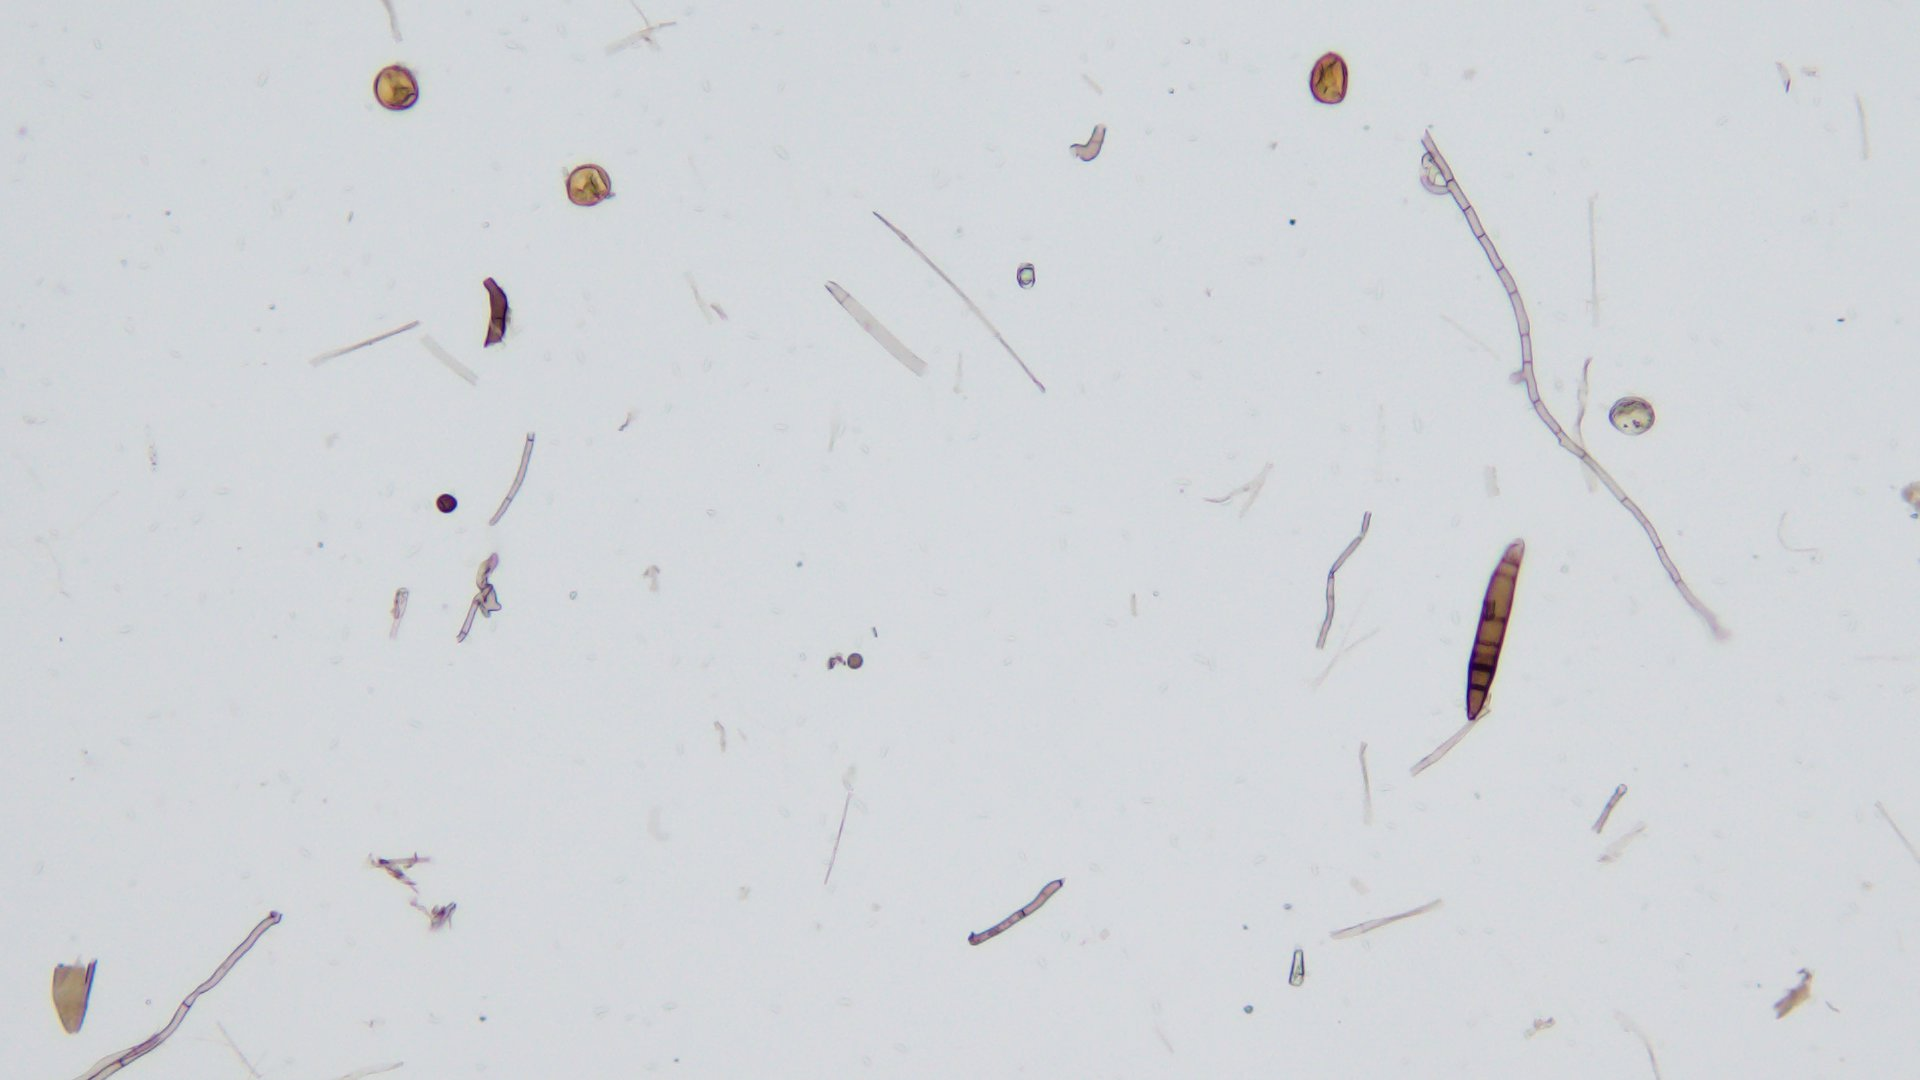dbb_spore: (1461, 539, 1524, 721)
shs_spore: (435, 495, 458, 513)
xb_spore: (562, 166, 616, 210), (1308, 51, 1352, 105), (372, 65, 419, 109)
